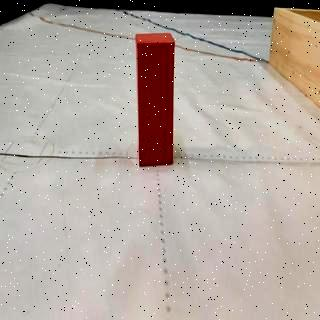redbox: (136, 34, 176, 168)
